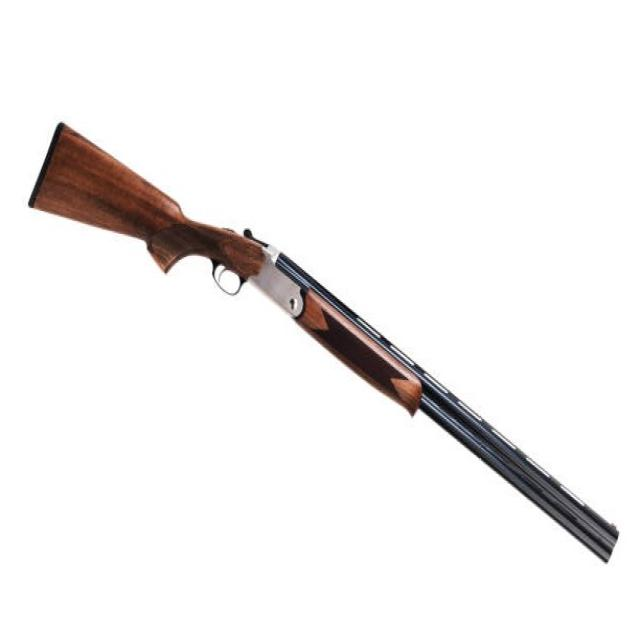rifle: (25, 115, 624, 571)
